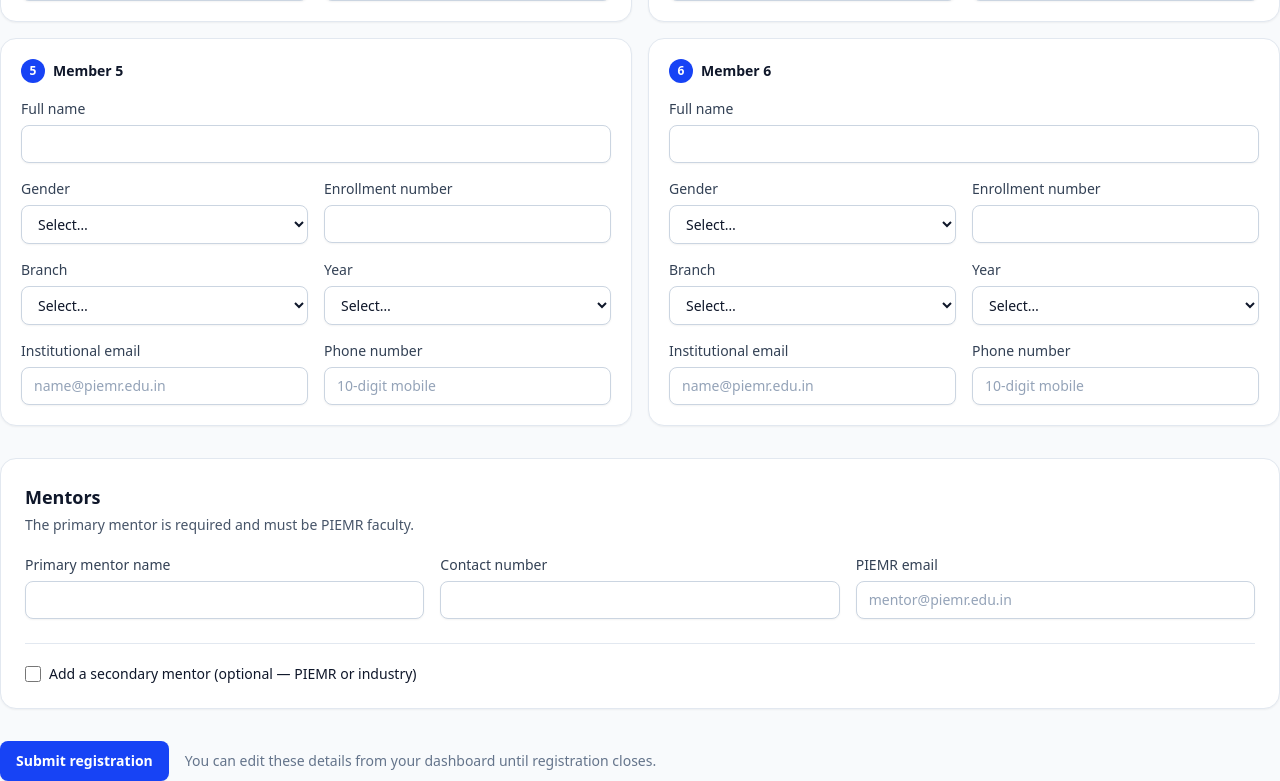
it: team registration form › keeps the optional mentor fields hidden until asked for
(page scrolled)
Expected: the field labelled "Affiliation" is not shown
Click the checkbox labelled "Add a secondary mentor (optional — PIEMR or industry)".
click(33, 674)  # box [25, 666, 41, 682]
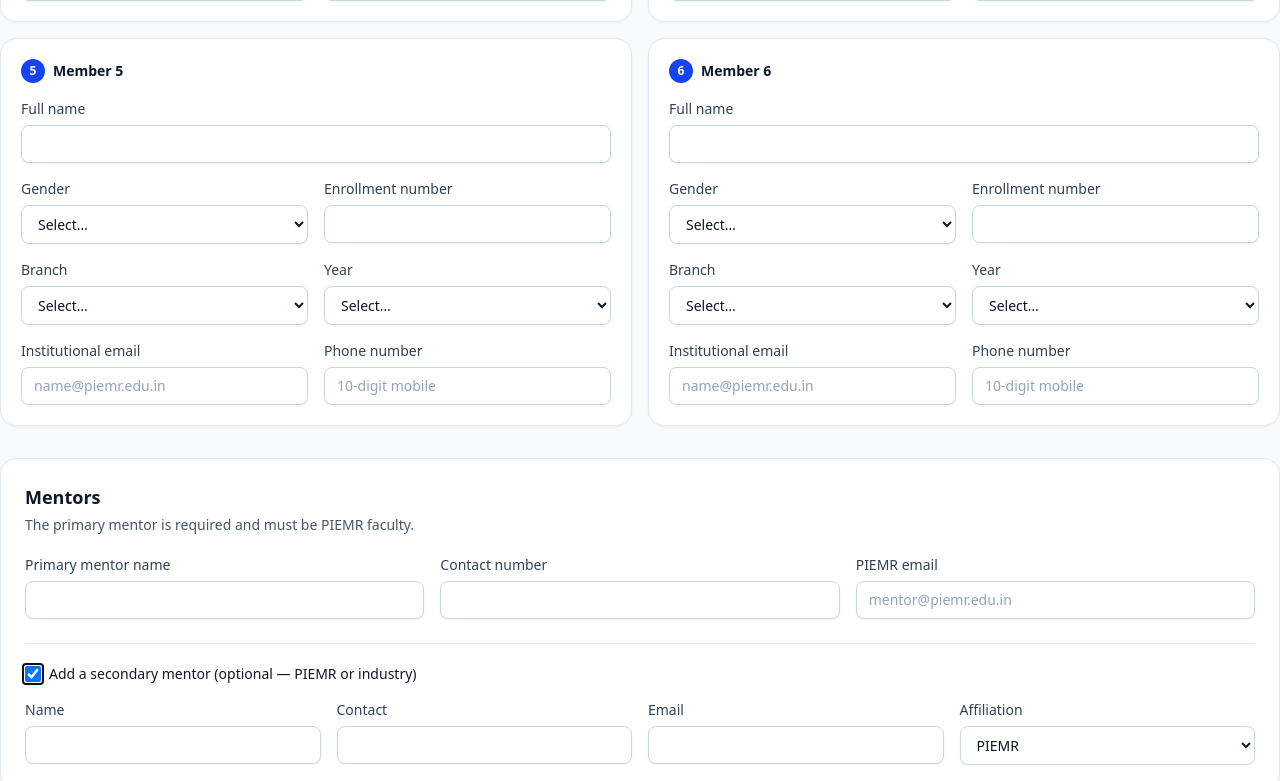
Expected: the dropdown labelled "Affiliation" is shown, [960, 726, 1255, 765]
